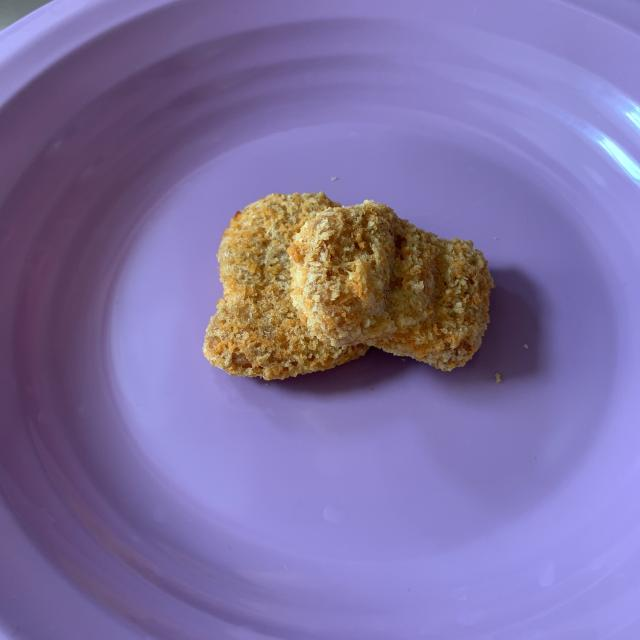Frango: (297, 200, 488, 367), (204, 192, 368, 382)
